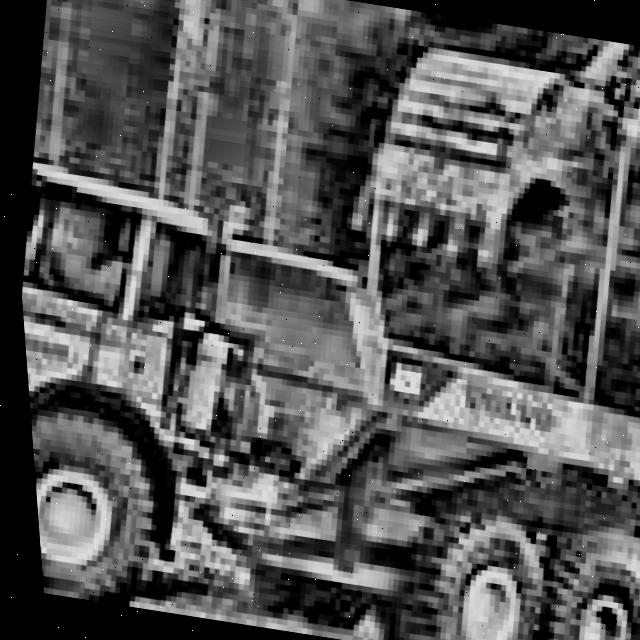dump_truck: (8, 135, 640, 640)
